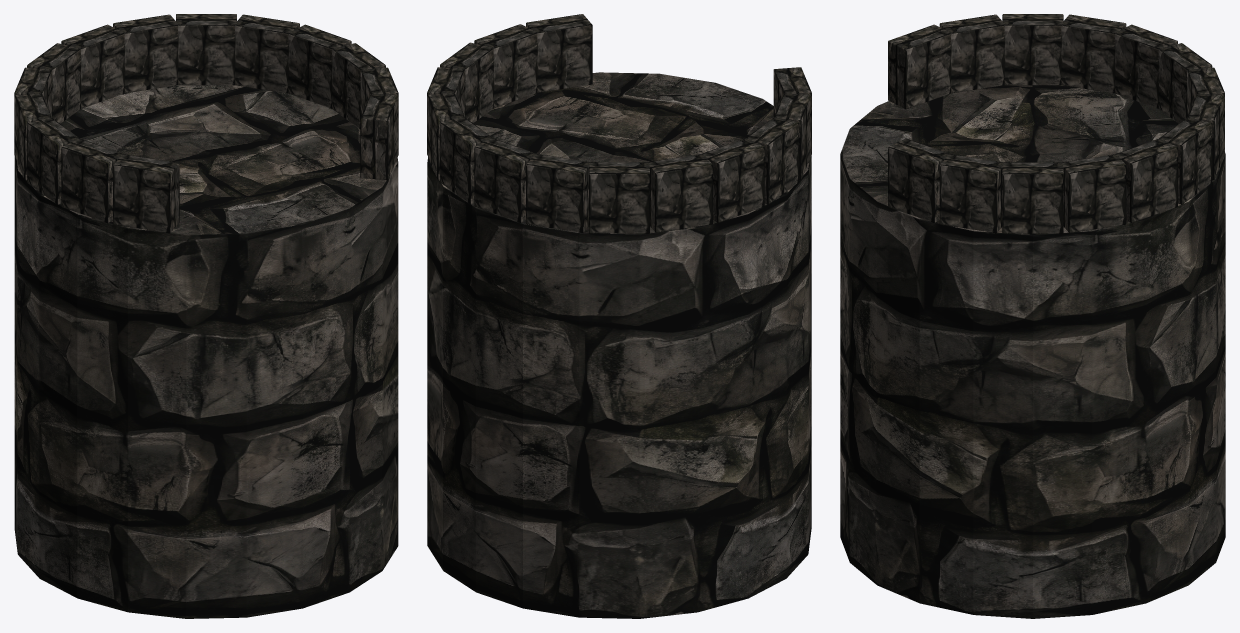
The model's file is fortress_round_tower_walkable_LOD2.glb.
3 views of the same model, side by side, from view 1: azimuth 30°, elevation 25°; view 2: azimuth 150°, elevation 25°; view 3: azimuth 270°, elevation 25° (orthographic).
Visible parts, largest first — view 1: LOD_Tower.001, LOD_Parapet.025, LOD_Parapet.017, LOD_Parapet.018, LOD_Parapet.016, LOD_Parapet.024, LOD_Parapet.019, LOD_Parapet.015, LOD_Parapet.026, LOD_Parapet.023, LOD_Parapet.014, LOD_Parapet.020 (+3 smaller); view 2: LOD_Tower.001, LOD_Parapet.019, LOD_Parapet.021, LOD_Parapet.020, LOD_Parapet.026, LOD_Parapet.022, LOD_Parapet.018, LOD_Parapet.027, LOD_Parapet.017, LOD_Parapet.023, LOD_Parapet.014, LOD_Parapet.016 (+3 smaller); view 3: LOD_Tower.001, LOD_Parapet.015, LOD_Parapet.027, LOD_Parapet.025, LOD_Parapet.014, LOD_Parapet.023, LOD_Parapet.024, LOD_Parapet.022, LOD_Parapet.016, LOD_Parapet.026, LOD_Parapet.021, LOD_Parapet.017 (+3 smaller).
Boxes of the visible parts, left/top/right/bottom form: LOD_Tower.001: left=14, top=85, right=398, bottom=618; LOD_Parapet.025: left=113, top=154, right=179, bottom=233; LOD_Parapet.017: left=176, top=14, right=236, bottom=85; LOD_Parapet.018: left=113, top=14, right=177, bottom=93; LOD_Parapet.016: left=235, top=14, right=299, bottom=93; LOD_Parapet.024: left=61, top=138, right=124, bottom=223; LOD_Parapet.019: left=61, top=24, right=124, bottom=108; LOD_Parapet.015: left=288, top=24, right=351, bottom=108; LOD_Parapet.026: left=360, top=93, right=398, bottom=180; LOD_Parapet.023: left=27, top=117, right=79, bottom=204; LOD_Parapet.014: left=332, top=43, right=385, bottom=128; LOD_Parapet.020: left=27, top=43, right=80, bottom=123; LOD_Tower.001: left=427, top=72, right=811, bottom=618; LOD_Parapet.019: left=526, top=153, right=590, bottom=232; LOD_Parapet.021: left=648, top=154, right=712, bottom=232; LOD_Parapet.020: left=589, top=162, right=649, bottom=233; LOD_Parapet.026: left=526, top=14, right=592, bottom=92; LOD_Parapet.022: left=702, top=138, right=764, bottom=222; LOD_Parapet.018: left=474, top=138, right=536, bottom=222; LOD_Parapet.027: left=474, top=24, right=537, bottom=108; LOD_Parapet.017: left=440, top=117, right=493, bottom=204; LOD_Parapet.023: left=746, top=117, right=798, bottom=204; LOD_Parapet.014: left=440, top=42, right=493, bottom=123; LOD_Parapet.016: left=427, top=93, right=464, bottom=179; LOD_Tower.001: left=840, top=85, right=1225, bottom=618; LOD_Parapet.015: left=1061, top=154, right=1126, bottom=233; LOD_Parapet.027: left=939, top=154, right=1003, bottom=233; LOD_Parapet.025: left=888, top=24, right=950, bottom=109; LOD_Parapet.014: left=1002, top=162, right=1063, bottom=233; LOD_Parapet.023: left=1002, top=14, right=1063, bottom=85; LOD_Parapet.024: left=939, top=14, right=1004, bottom=93; LOD_Parapet.022: left=1061, top=14, right=1126, bottom=93; LOD_Parapet.016: left=1115, top=138, right=1177, bottom=222; LOD_Parapet.026: left=888, top=138, right=950, bottom=222; LOD_Parapet.021: left=1115, top=24, right=1177, bottom=108; LOD_Parapet.017: left=1159, top=117, right=1212, bottom=204.
Bounding box in the file's own units: 6.5 × 8.26 × 6.5.
1 material, 1 textured.
